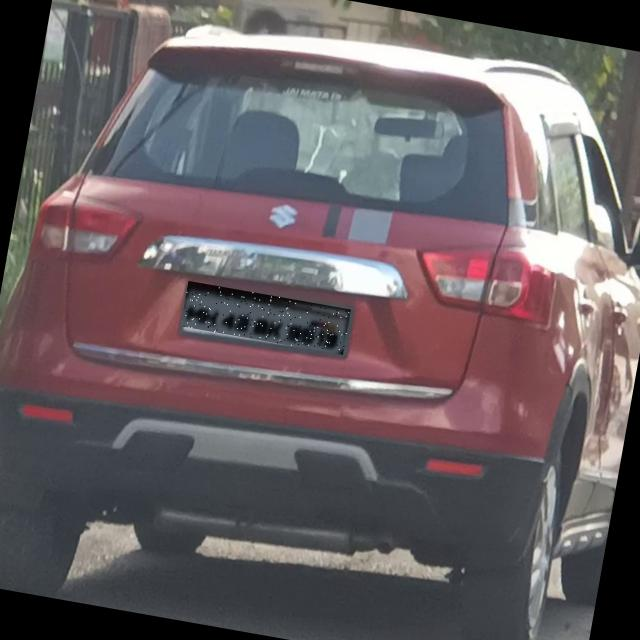Plate: (181, 282, 351, 356)
